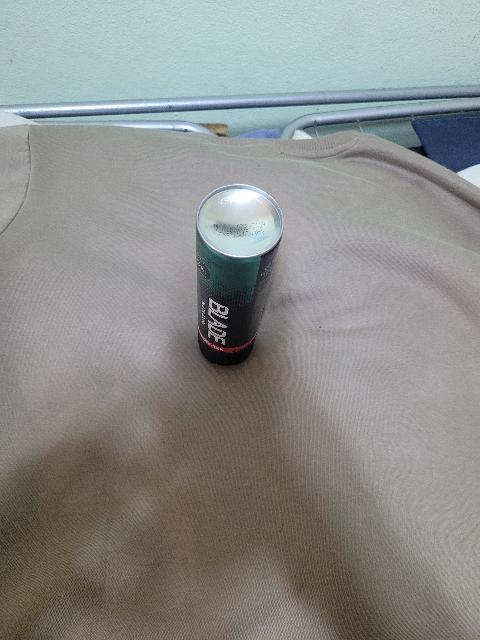Metal: (192, 179, 285, 364)
